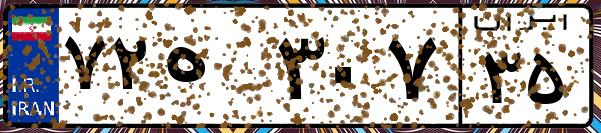0: (330, 28, 385, 110)
2: (110, 28, 158, 98)
3: (270, 28, 330, 110), (475, 38, 525, 113)
5: (525, 38, 570, 115)
7: (385, 28, 445, 110), (57, 26, 110, 100)
ه: (158, 20, 270, 120)
